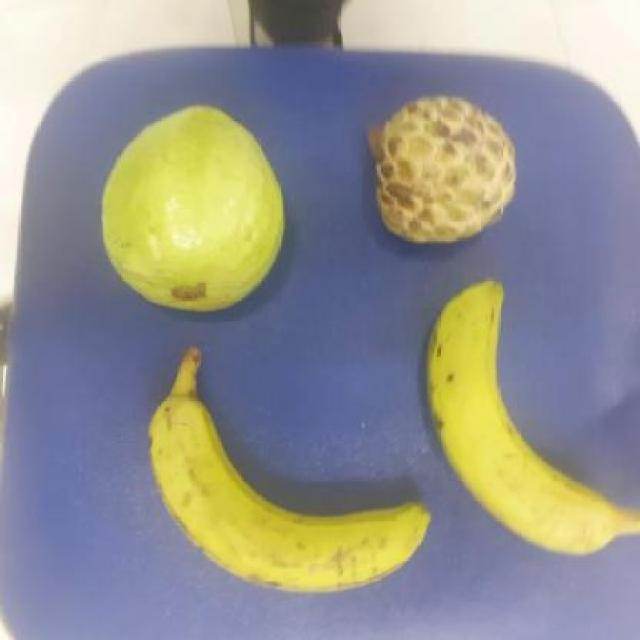banana: (138, 392, 428, 591), (420, 285, 617, 553)
guava: (89, 109, 280, 314)
sugar apple: (362, 93, 516, 244)
